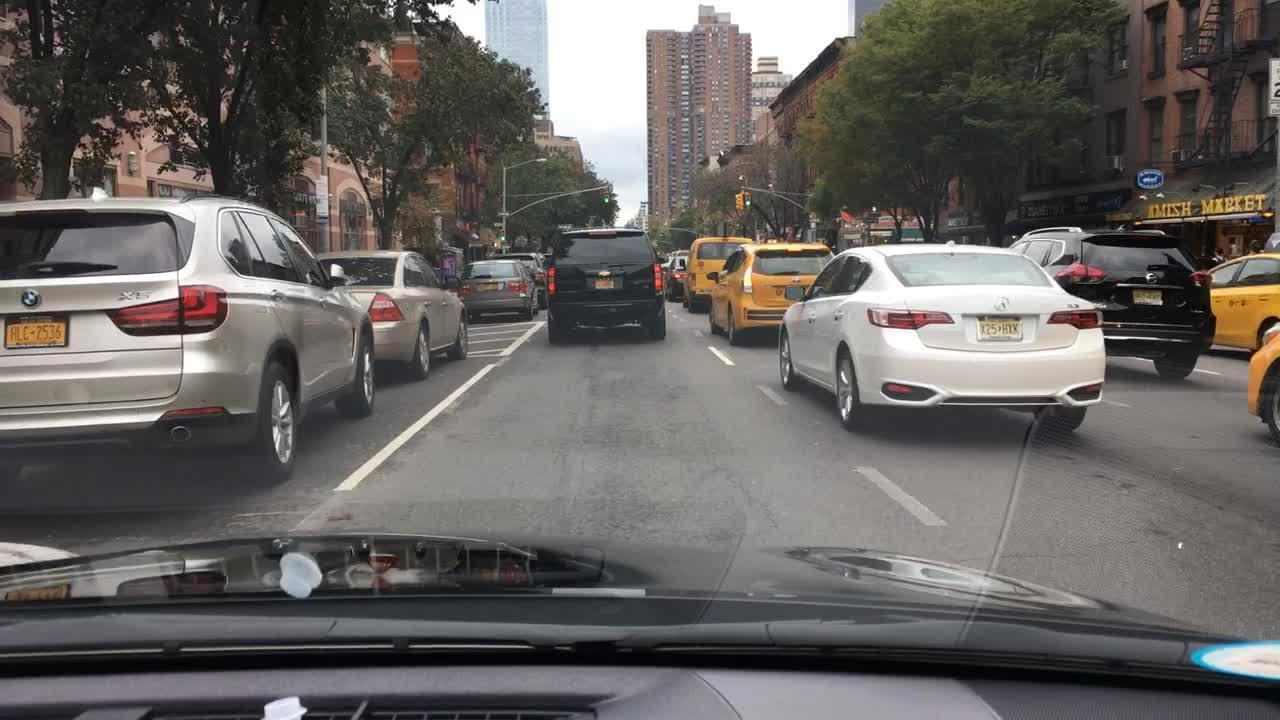bmw: (20, 288, 41, 313)
